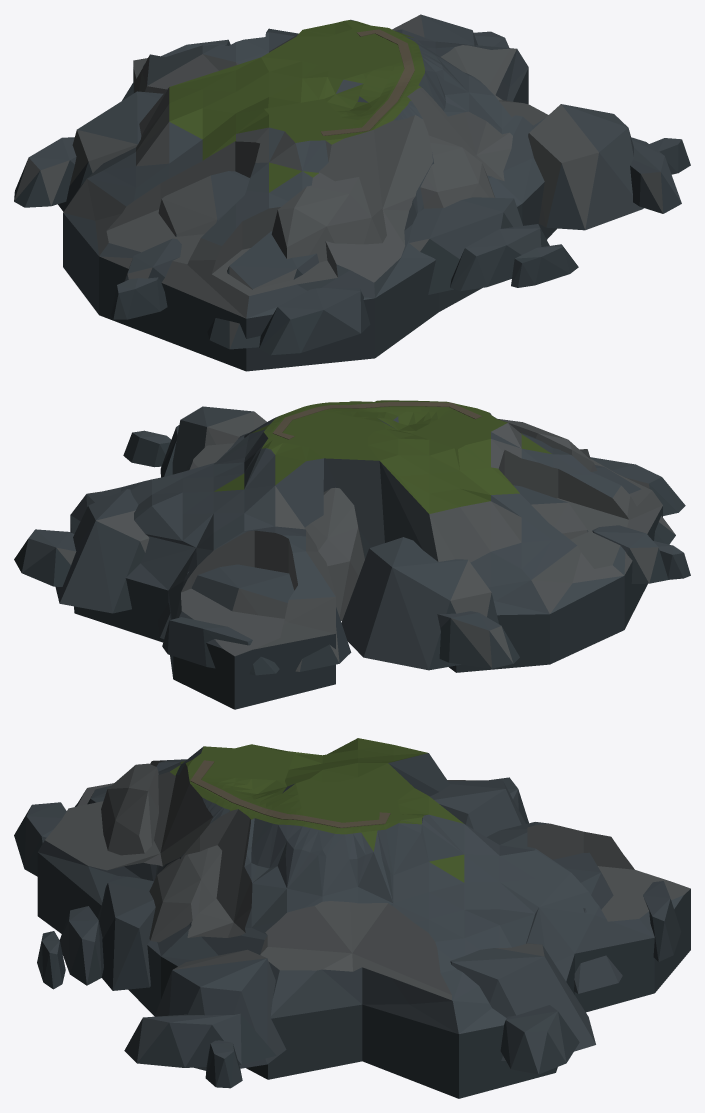
File: island_c.glb
The picture shows the model from 3 angles, top to bottom: view 1: azimuth 30°, elevation 25°; view 2: azimuth 150°, elevation 25°; view 3: azimuth 270°, elevation 25°; orthographic projection. The views are drawn at different scales.
Visible parts, largest first — view 1: island_c_Coast short olive grass, island_c_Coast blue grey bedrock, island_c_Coast weathered stone footpath; view 2: island_c_Coast short olive grass, island_c_Coast blue grey bedrock, island_c_Coast weathered stone footpath; view 3: island_c_Coast short olive grass, island_c_Coast blue grey bedrock, island_c_Coast weathered stone footpath.
Boxes of the visible parts, bbox=[...] form: island_c_Coast short olive grass: bbox=[63, 19, 556, 371]; island_c_Coast blue grey bedrock: bbox=[14, 14, 690, 355]; island_c_Coast weathered stone footpath: bbox=[320, 29, 414, 135]; island_c_Coast short olive grass: bbox=[70, 400, 662, 709]; island_c_Coast blue grey bedrock: bbox=[14, 406, 690, 675]; island_c_Coast weathered stone footpath: bbox=[272, 402, 481, 439]; island_c_Coast short olive grass: bbox=[37, 738, 690, 1098]; island_c_Coast blue grey bedrock: bbox=[14, 777, 681, 1088]; island_c_Coast weathered stone footpath: bbox=[190, 760, 390, 827].
Size of the model in its own units: 64.61 by 17.59 by 60.
